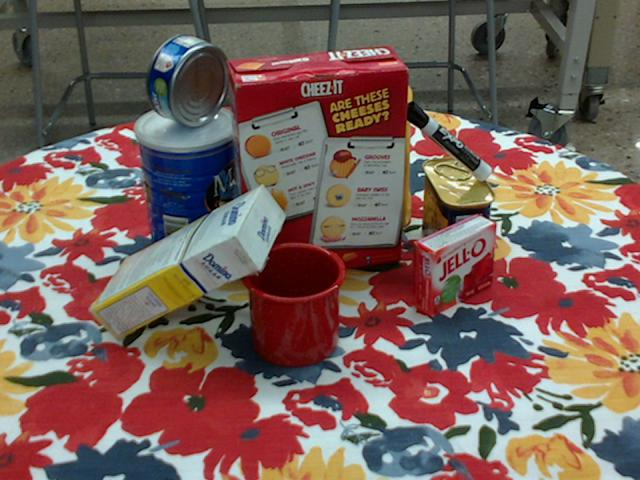cracker_box: (226, 47, 409, 281)
gelatin_box: (412, 213, 496, 317)
large_marker: (401, 102, 491, 180)
master_chef_can: (135, 104, 242, 269)
mug: (240, 240, 346, 366)
mustard_bottle: (357, 48, 411, 230)
potted_meat_can: (421, 157, 495, 272)
sugar_box: (87, 185, 285, 341)
tomato_soup_can: (273, 107, 334, 213)
tuna_fish_can: (146, 34, 228, 126)
